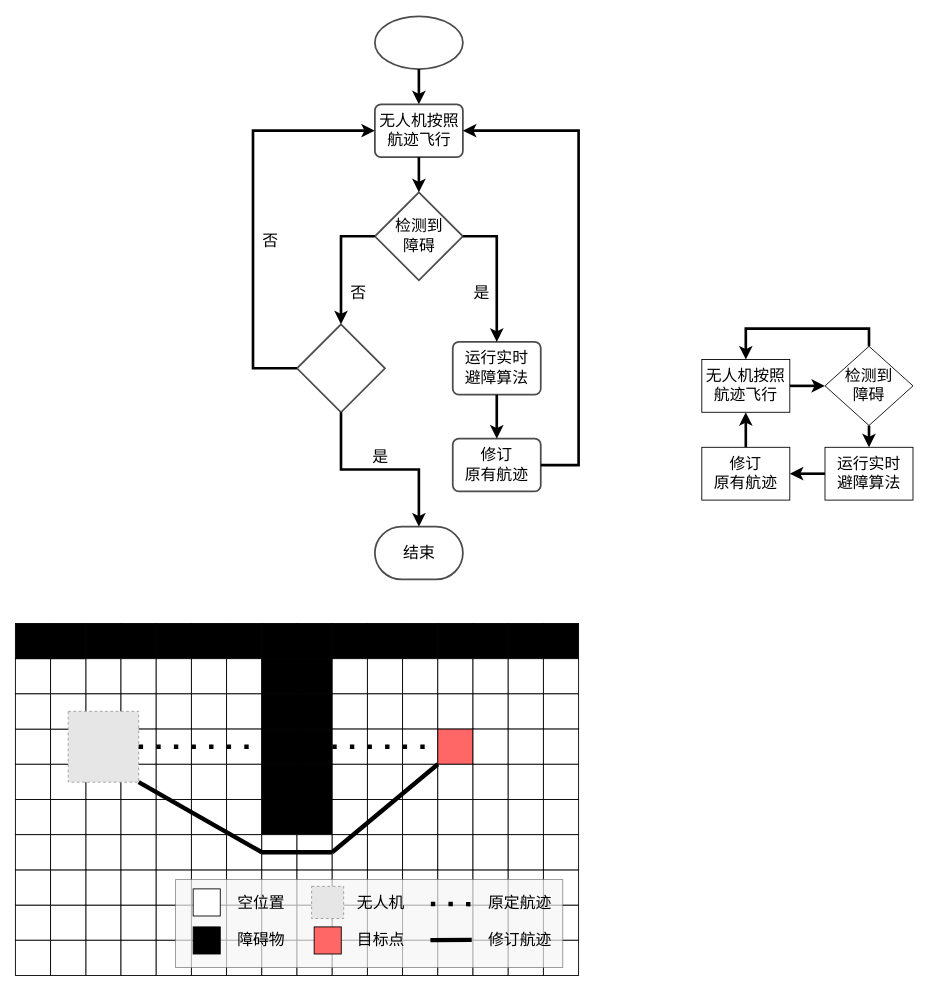
This 928x991 diagram has some shape labels left out. Grey dashed boxes stand in for pictures. The centre of each missing label's shape, as x and y in pixels:
到达 目标点: point (340, 368)
开始: point (418, 42)
